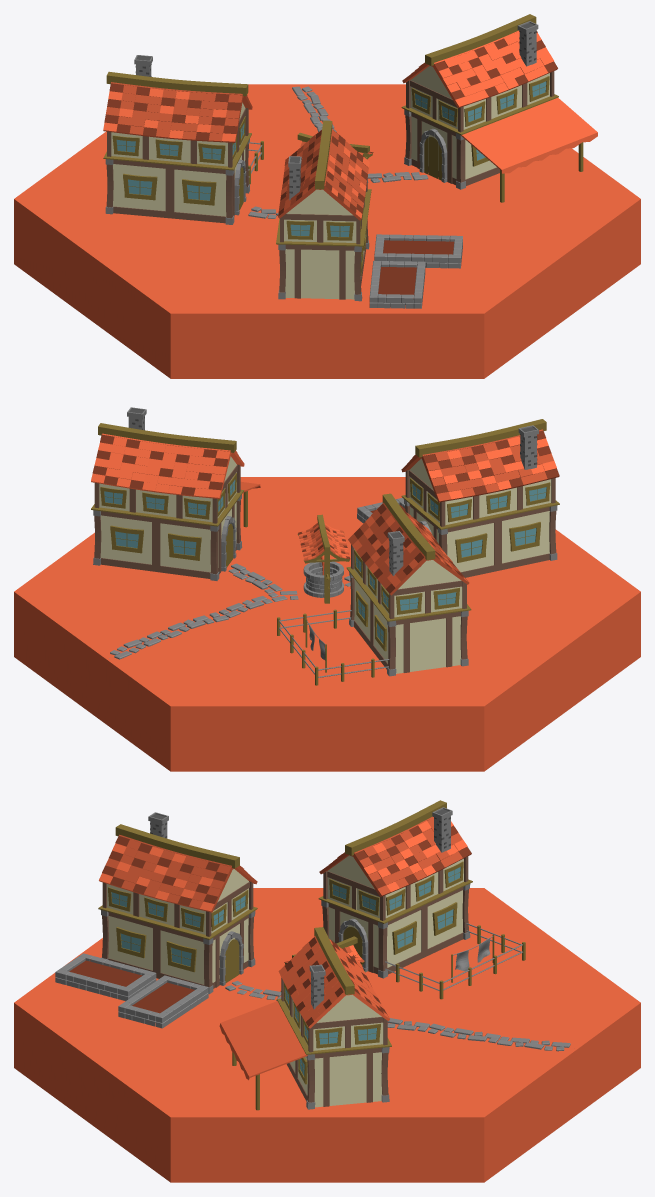
File: Tuile_Village_Test.fbx
The picture shows the model from 3 angles, top to bottom: view 1: azimuth 30°, elevation 25°; view 2: azimuth 150°, elevation 25°; view 3: azimuth 270°, elevation 25°; orthographic projection.
Visible parts, largest first — view 1: Circle, toit, toit.001, Plane.002, toit.002, base maison, base maison.002, etage.001, base maison.001, etage.002, Cube.082, etage (+18 smaller); view 2: Circle, toit.001, toit.002, base maison.001, toit, base maison, base maison.002, CHEMIN, etage, etage.002, etage.001, fenetre bas.002 (+18 smaller); view 3: Circle, toit.002, toit, toit.001, base maison.002, base maison, Plane.002, base maison.001, etage, etage.001, Cube.077, etage.002 (+22 smaller).
Part boxes in pixels (x1,y1,x2,y2): Circle: [14, 84, 640, 378]; toit: [103, 71, 252, 142]; toit.001: [402, 14, 557, 108]; Plane.002: [461, 98, 597, 173]; toit.002: [278, 120, 369, 220]; base maison: [113, 148, 245, 223]; base maison.002: [285, 244, 366, 299]; etage.001: [410, 66, 549, 129]; base maison.001: [411, 112, 499, 185]; etage.002: [284, 189, 364, 242]; Cube.082: [374, 234, 462, 268]; etage: [111, 102, 245, 166]; Circle: [14, 477, 640, 771]; toit.001: [91, 423, 244, 498]; toit.002: [401, 419, 559, 502]; base maison.001: [100, 502, 236, 578]; toit: [348, 493, 469, 595]; base maison: [354, 579, 461, 673]; base maison.002: [409, 504, 549, 577]; CHEMIN: [109, 563, 350, 659]; etage: [354, 548, 462, 617]; etage.002: [409, 458, 551, 525]; etage.001: [99, 456, 237, 522]; fenetre bas.002: [110, 525, 201, 560]; Circle: [14, 888, 640, 1182]; toit.002: [99, 824, 257, 912]; toit: [319, 800, 471, 896]; toit.001: [278, 927, 389, 1028]; base maison.002: [108, 912, 248, 988]; base maison: [328, 887, 463, 974]; Plane.002: [219, 1001, 307, 1080]; base maison.001: [286, 1048, 381, 1107]; etage: [327, 855, 463, 918]; etage.001: [284, 994, 383, 1050]; Cube.077: [55, 953, 156, 1000]; etage.002: [107, 869, 249, 934].
Bounding box in the file's own units: 107 × 42.41 × 124.
